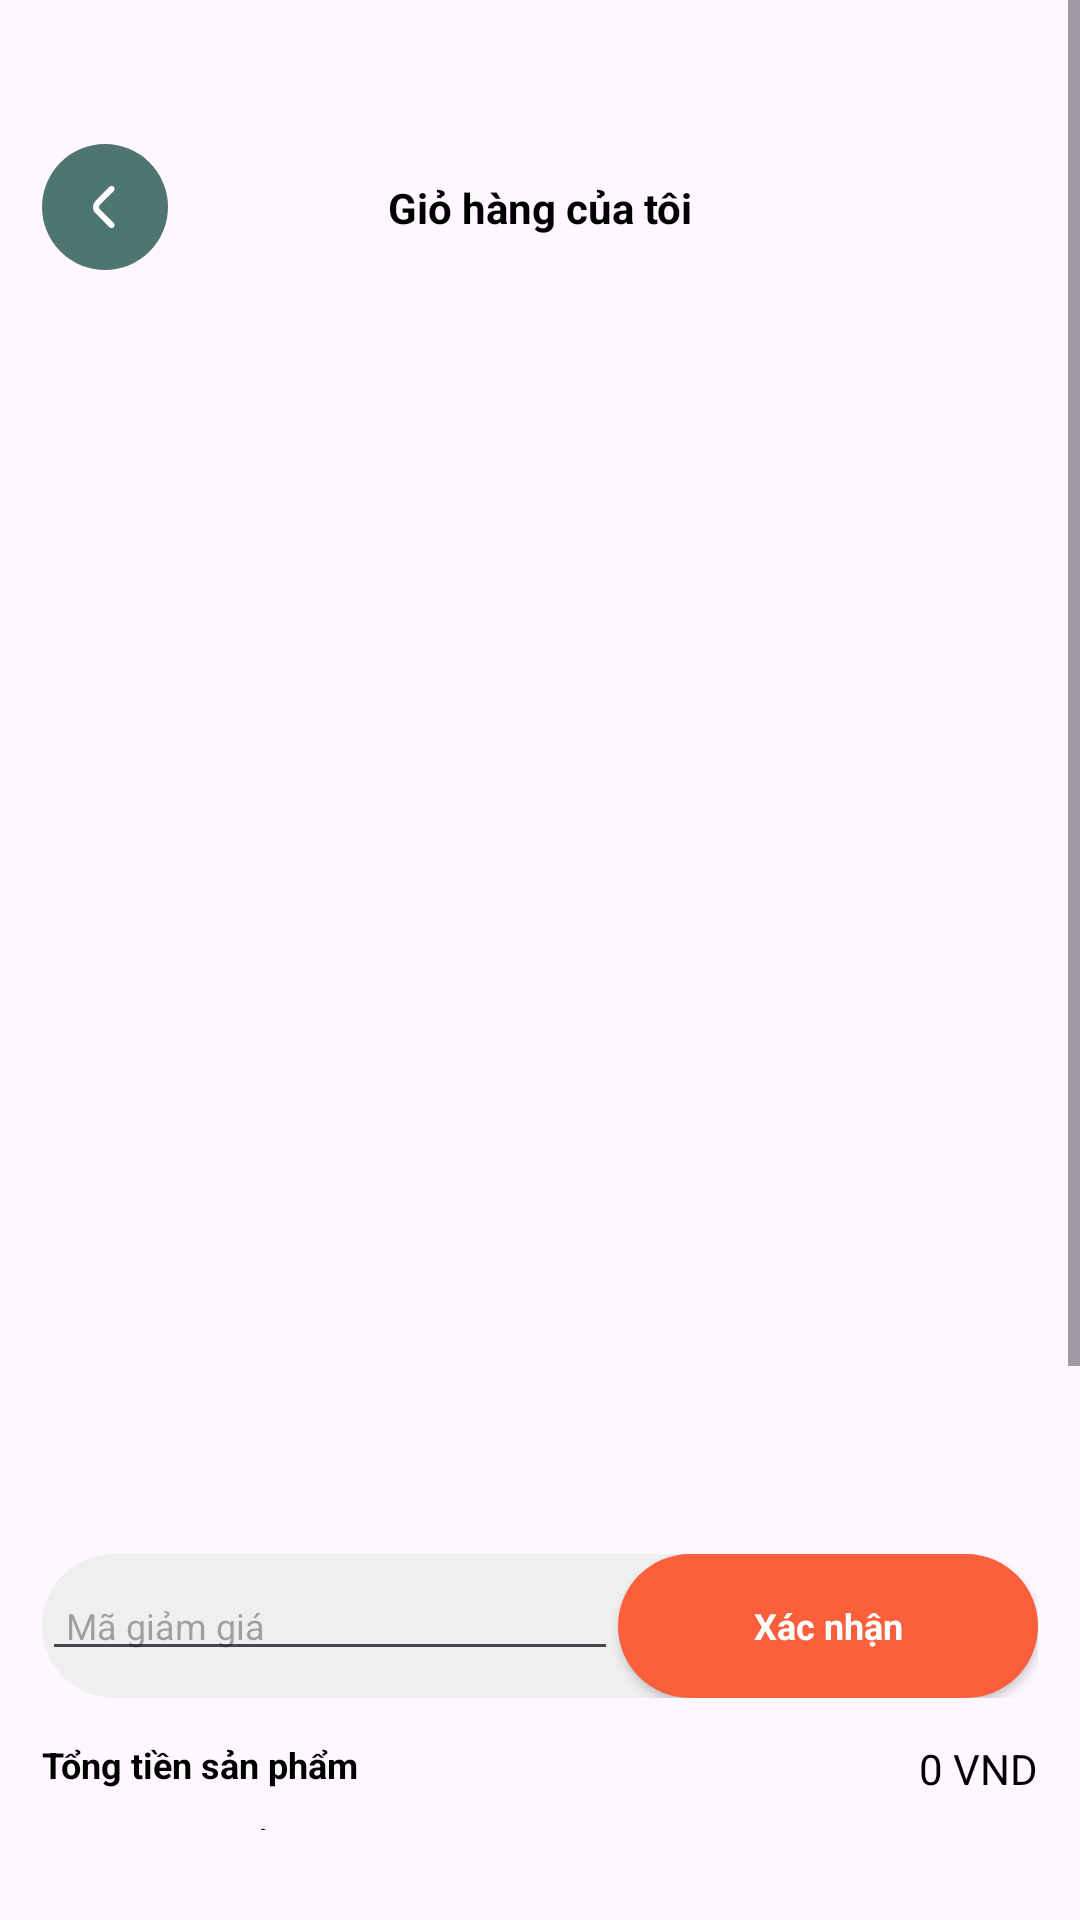

Icon bounding boxes for this 1080*1920 phone screenshot, format (x1, y1, x2, y2):
back: (42, 144, 168, 270)
